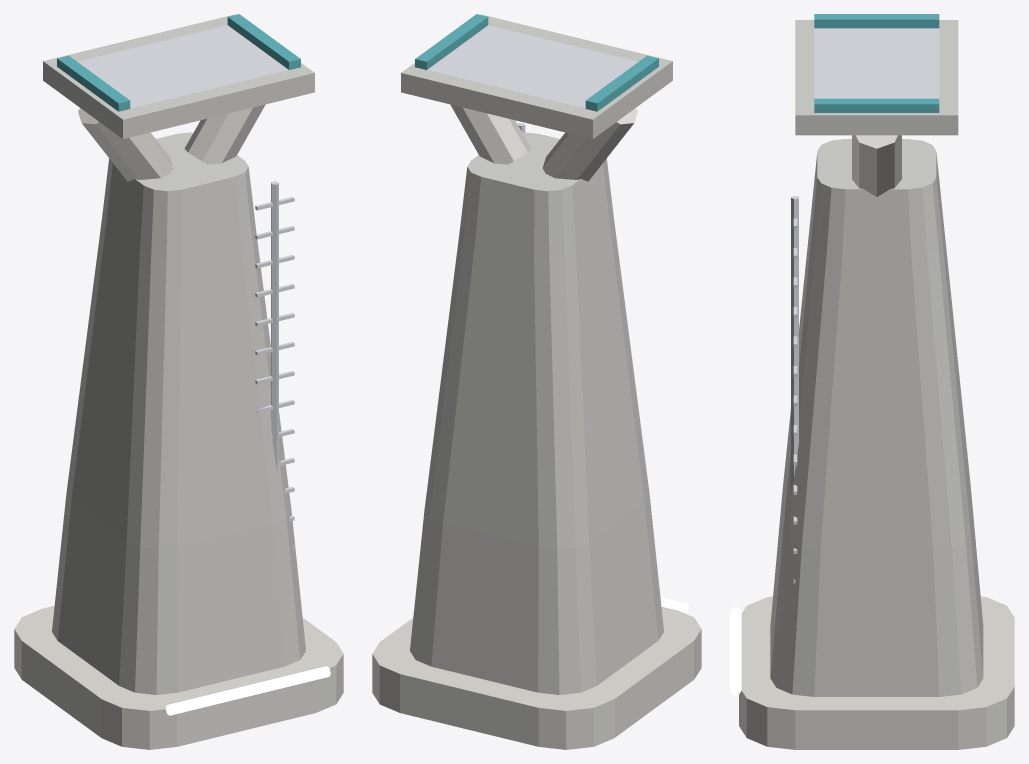
File: arcology-towers-and-skyways-maglev-support-pylon-a5a236b2__23259.glb
3 views of the same model, side by side, from view 1: azimuth 30°, elevation 25°; view 2: azimuth 150°, elevation 25°; view 3: azimuth 270°, elevation 25° (orthographic).
Parts seen in each view (by area): view 1: maglev-support-pylon; view 2: maglev-support-pylon; view 3: maglev-support-pylon.
Boxes of the visible parts, x1=… form: maglev-support-pylon: x1=14, y1=14, x2=343, y2=749; maglev-support-pylon: x1=372, y1=14, x2=701, y2=749; maglev-support-pylon: x1=730, y1=14, x2=1014, y2=749.
Bounding box in the file's own units: 4.4 × 11.15 × 4.54.
